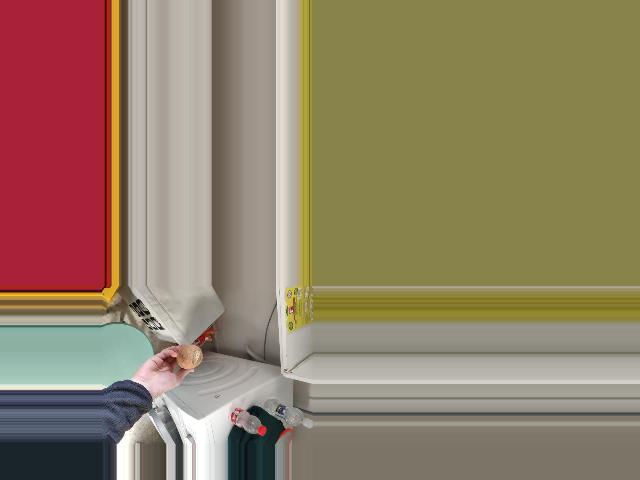sweet_potato: (173, 346, 201, 369)
